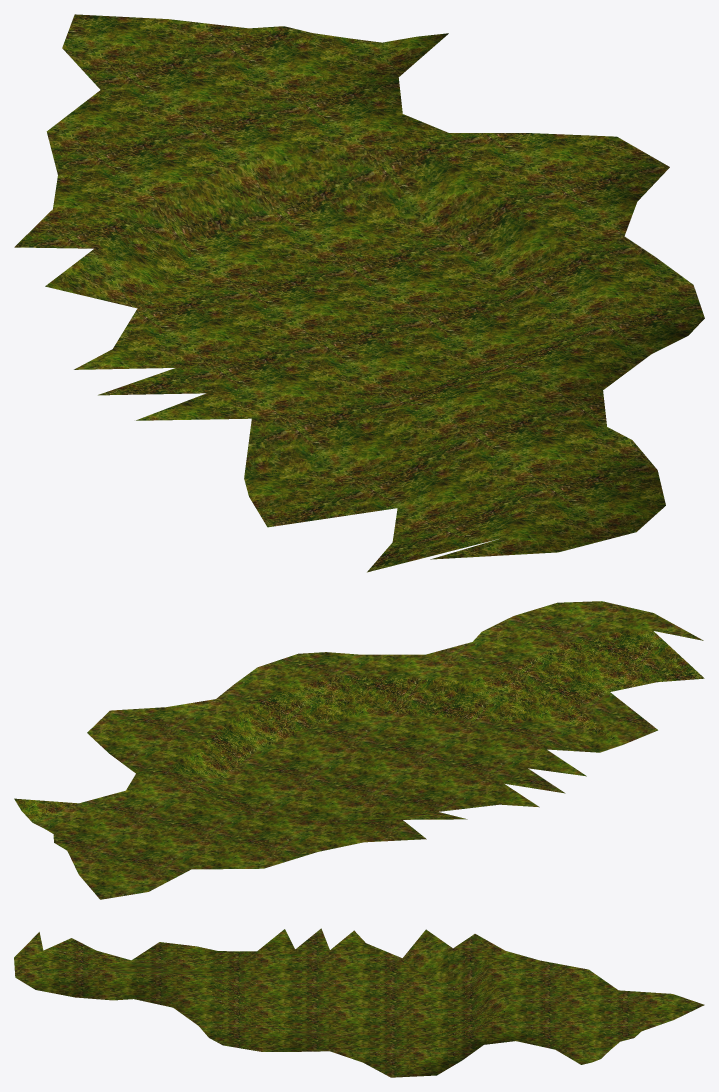
File: TROLLHOLE02_LUKEGROUND.fbx
The picture shows the model from 3 angles, top to bottom: view 1: azimuth 30°, elevation 25°; view 2: azimuth 150°, elevation 25°; view 3: azimuth 270°, elevation 25°; orthographic projection. The views are drawn at different scales.
Visible parts, largest first — view 1: TROLLHOLE02_LUKEGROUND; view 2: TROLLHOLE02_LUKEGROUND; view 3: TROLLHOLE02_LUKEGROUND.
Boxes of the visible parts, x1,y1,x2,y2 form: TROLLHOLE02_LUKEGROUND: (14,14,704,572); TROLLHOLE02_LUKEGROUND: (14,601,704,899); TROLLHOLE02_LUKEGROUND: (14,928,704,1077).
Size of the model in its own units: 290444 by 21968 by 527387.
1 material, 1 textured.
